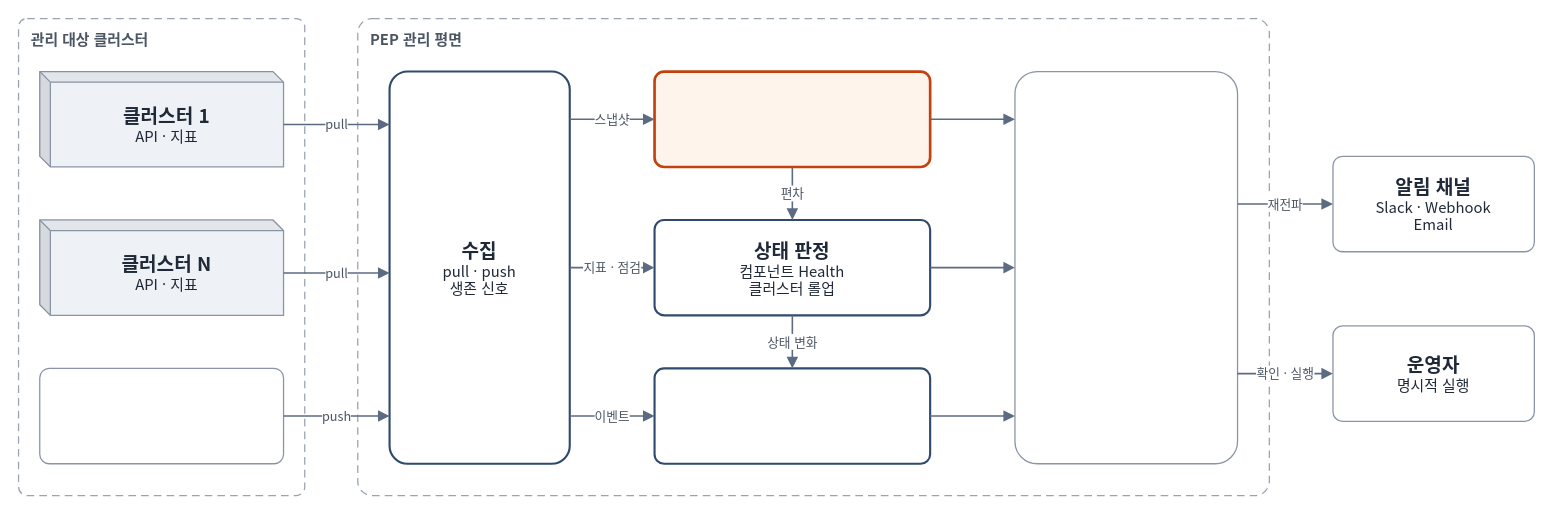
This 1554x515 diagram has some shape labels left out. The centre of each missing label's shape, as x and y in pixels:
"관리 API · 화면 인박스 실행 로그" belongs at (x=1126, y=267).
"기준 설정 · 편차 계층 상속 스냅샷 비교" belongs at (x=792, y=119).
"클러스터 수집기 점검 · 이벤트" belongs at (x=161, y=415).
"통합 이벤트 유지보수 모드 알림 규칙" belongs at (x=792, y=415).
